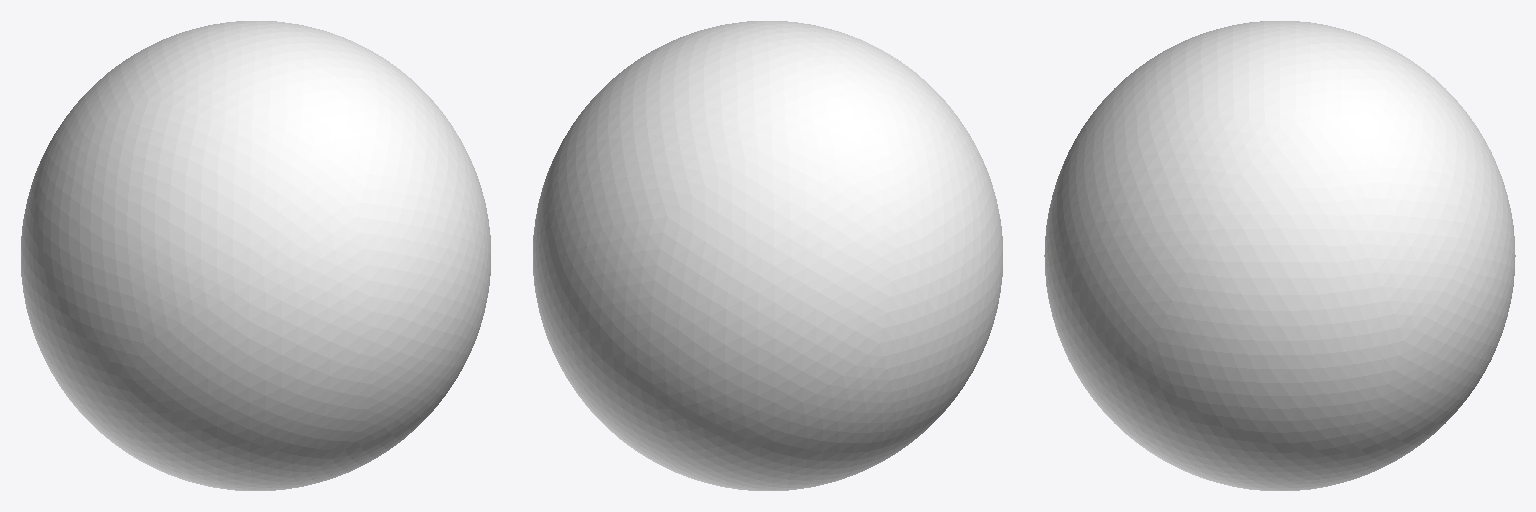
Rendered from HighresSphere.obj.
3 views of the same model, side by side, from view 1: azimuth 30°, elevation 25°; view 2: azimuth 150°, elevation 25°; view 3: azimuth 270°, elevation 25° (orthographic).
Parts seen in each view (by area): view 1: HighresSphere; view 2: HighresSphere; view 3: HighresSphere.
Part boxes in pixels (x1,y1,x2,y2): HighresSphere: (21, 21, 490, 490); HighresSphere: (533, 21, 1002, 490); HighresSphere: (1044, 21, 1515, 490).
Bounding box in the file's own units: 1 × 1 × 1.